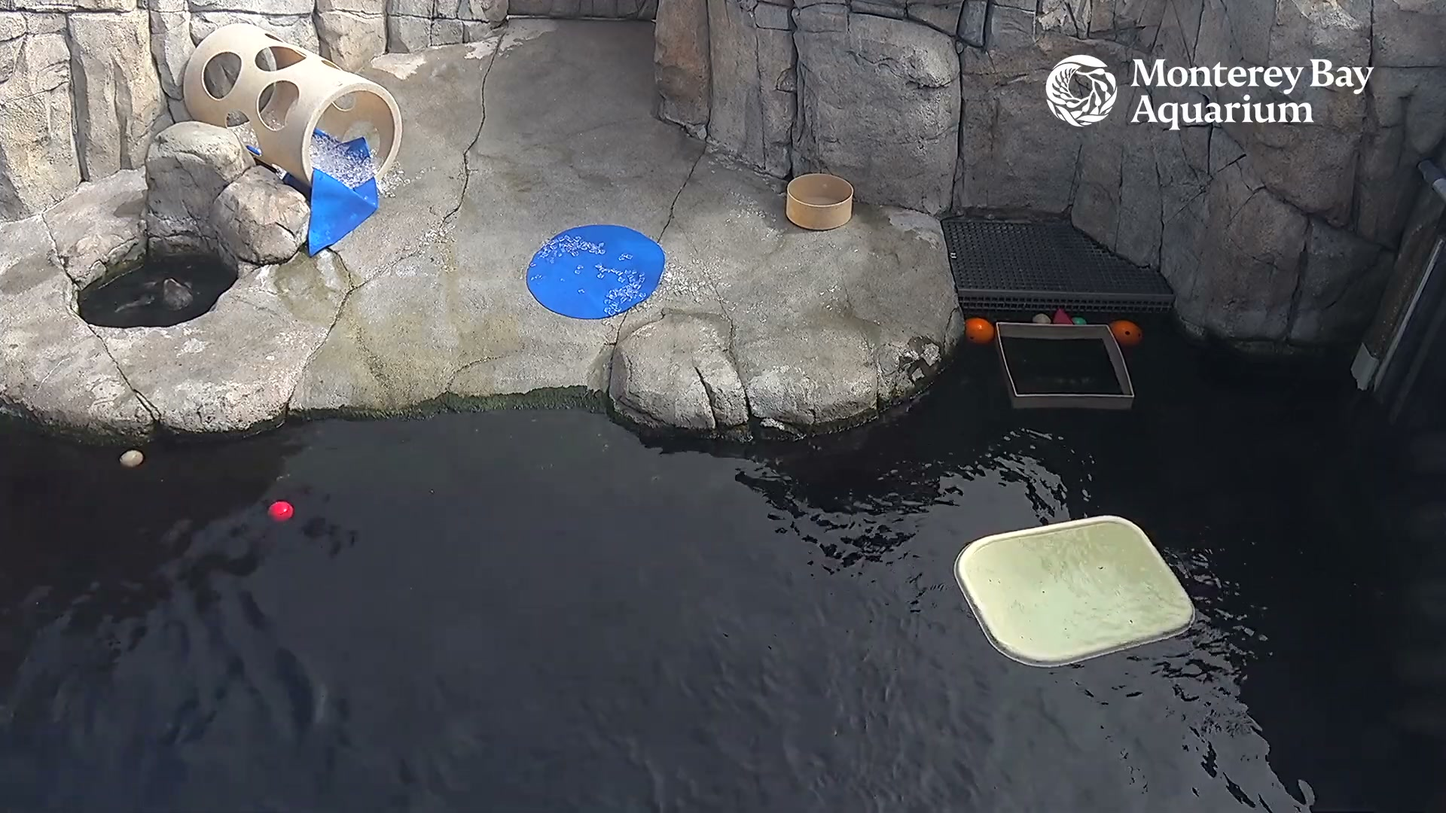Southern Sea Otter: (111, 264, 203, 330)
